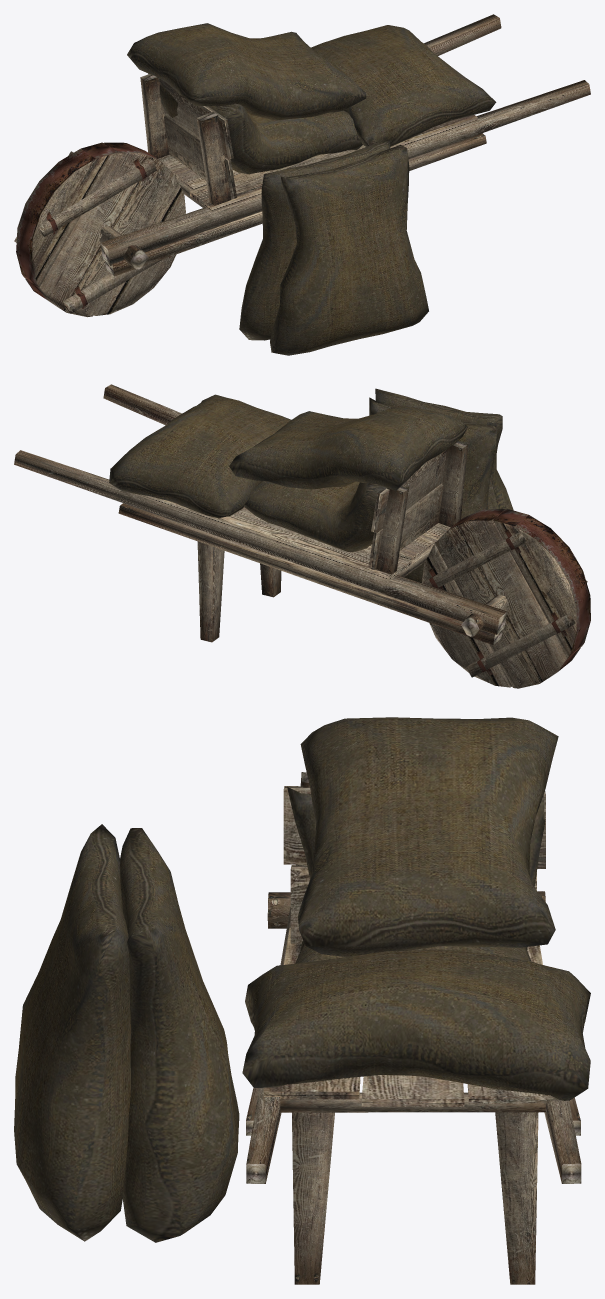
Rendered from vv_carretilla_madera.glb.
The picture shows the model from 3 angles, top to bottom: view 1: azimuth 30°, elevation 25°; view 2: azimuth 150°, elevation 25°; view 3: azimuth 270°, elevation 25°; orthographic projection. The views are drawn at different scales.
Visible parts, largest first — view 1: defaultobject; view 2: defaultobject; view 3: defaultobject.
Part boxes in pixels (x1,y1,x2,y2): defaultobject: (14, 14, 590, 355); defaultobject: (14, 384, 590, 688); defaultobject: (14, 717, 590, 1284).
Size of the model in its own units: 24.01 by 10.45 by 13.14.
4 materials, 4 textured.
